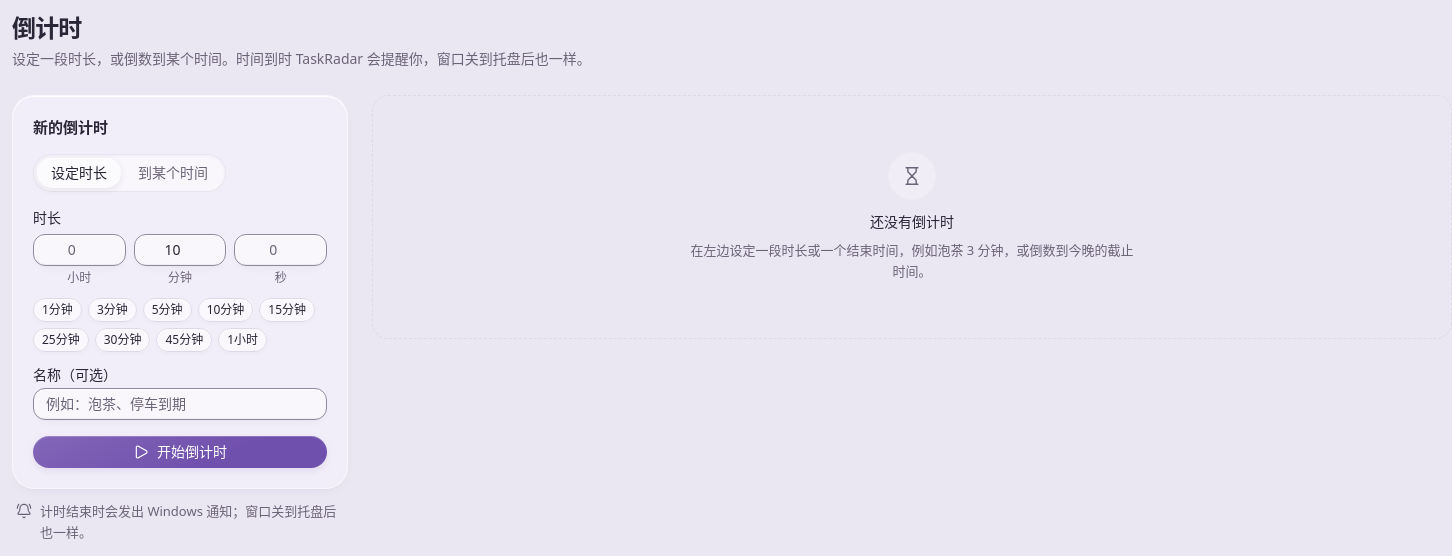
Test case: CountdownsPage › starts a countdown for a duration picked from the presets
Check: the text "还没有倒计时" is shown, box [870,212,954,232]
Click the button "5分钟" at (167, 310), box [143,298,192,322]
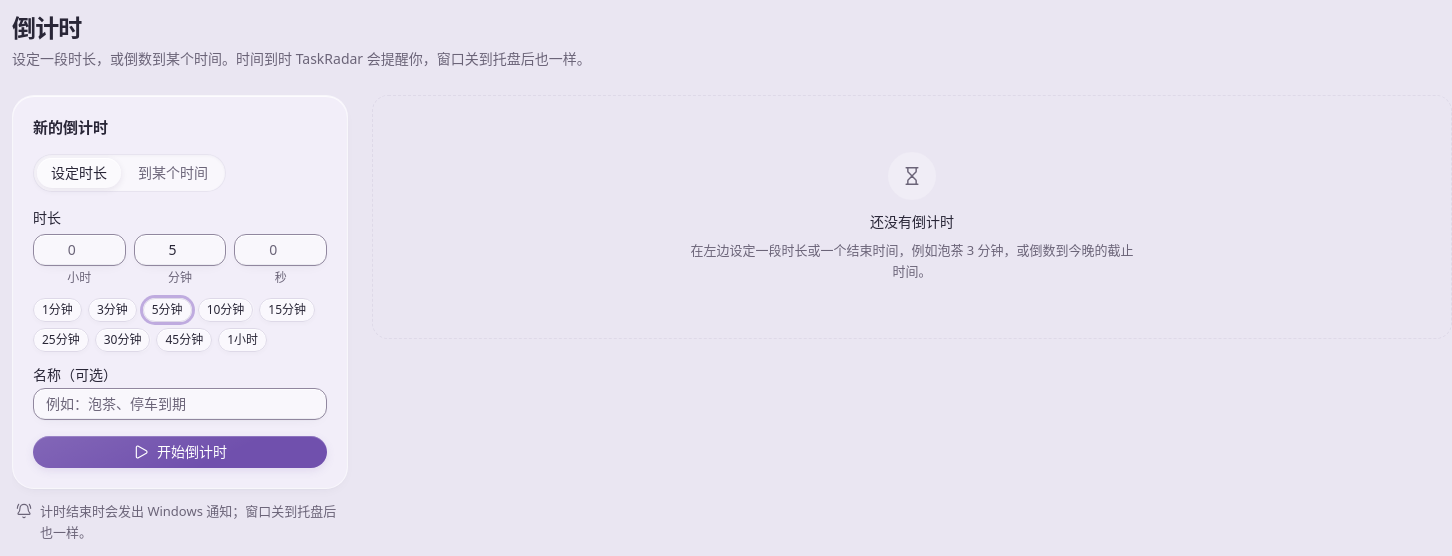
Type "Tee" into the field labelled "名称（可选）" at (180, 404), box [33,388,327,420]
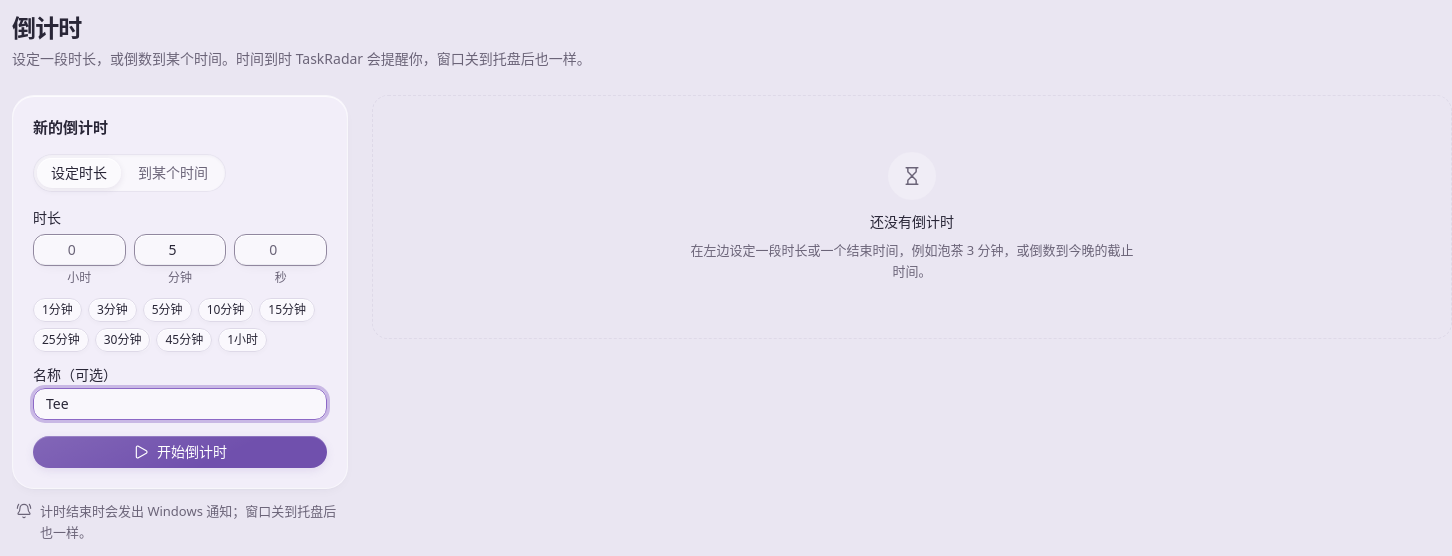
Click the button "开始倒计时" at (180, 452), box [33,436,327,468]
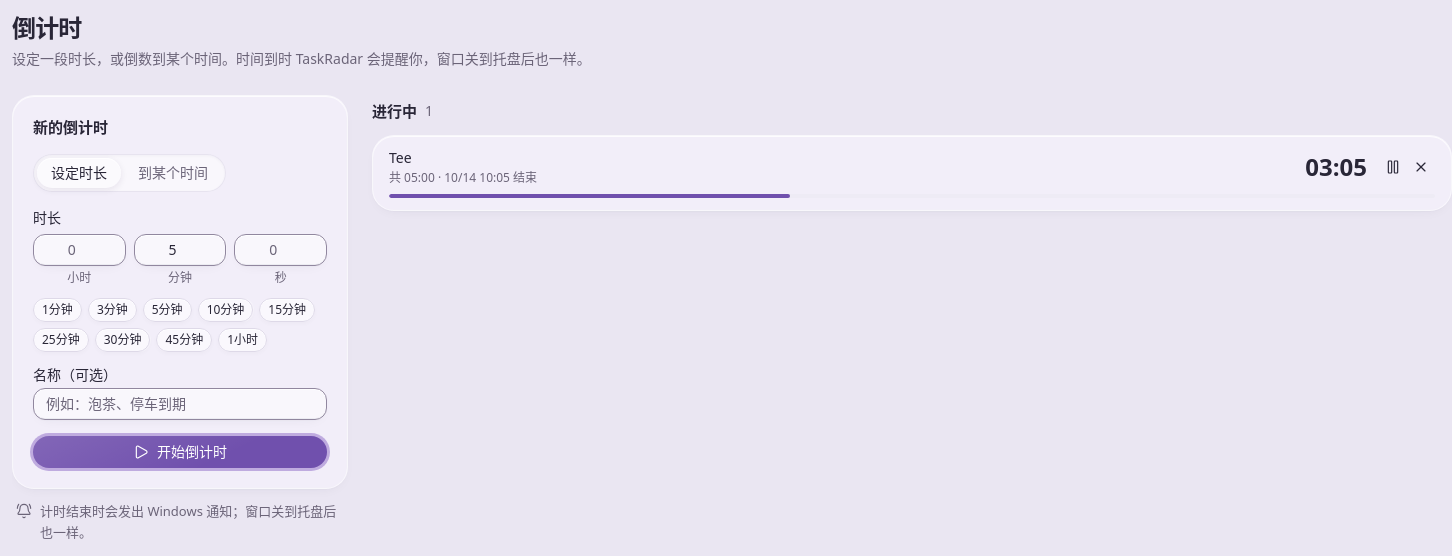
Check: the text named "Tee：还剩 03:05" is shown, box [1305,151,1367,183]
Check: the field labelled "名称（可选）" is empty, box [33,388,327,420]
